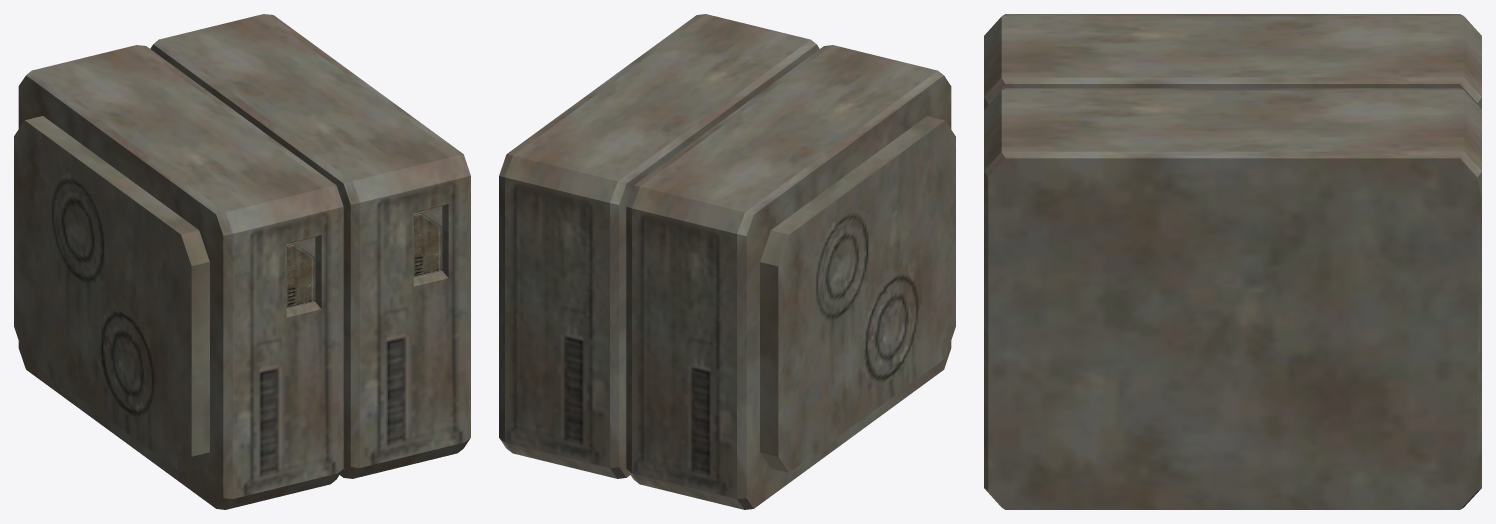
Rendered from thm_tato_debris_s07_l0.fbx.
3 views of the same model, side by side, from view 1: azimuth 30°, elevation 25°; view 2: azimuth 150°, elevation 25°; view 3: azimuth 270°, elevation 25° (orthographic). The views are drawn at different scales.
Parts seen in each view (by area): view 1: mesh_node; view 2: mesh_node; view 3: mesh_node.
Boxes of the visible parts, <box> form: mesh_node: <box>14,14,470,509</box>; mesh_node: <box>499,14,955,509</box>; mesh_node: <box>984,14,1481,509</box>.
Bounding box in the file's own units: 0.657 × 0.7038 × 0.8925.
Materials: 1 (1 with a texture image).
